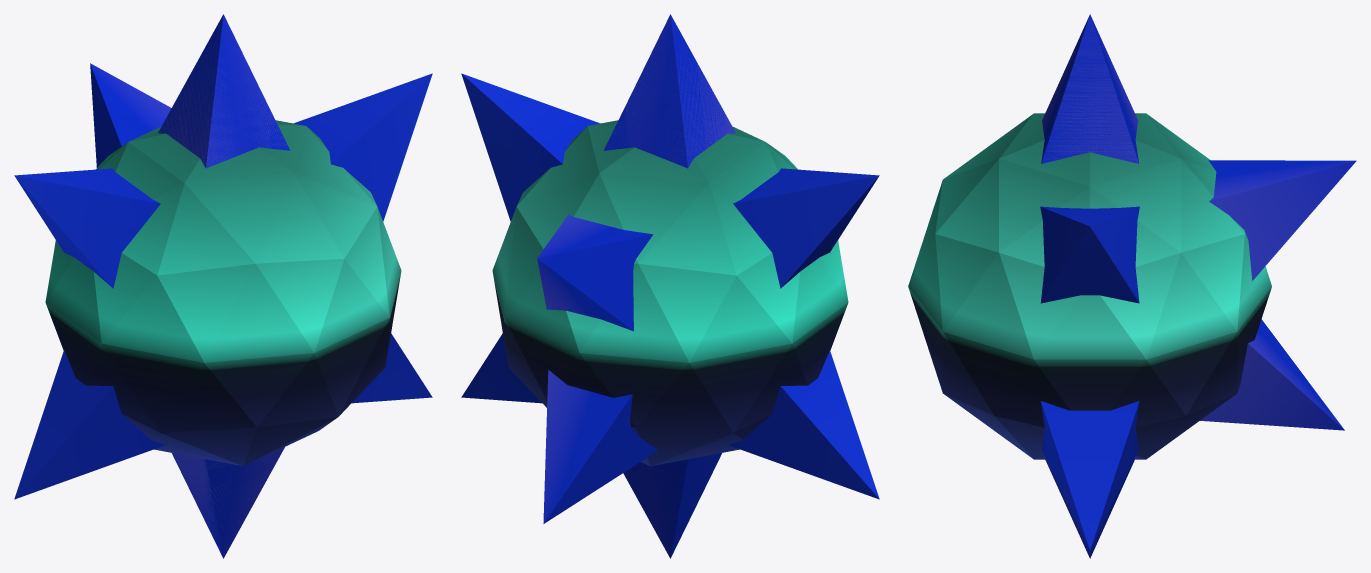
File: MagickSphere.fbx
The picture shows the model from 3 angles, left to right: view 1: azimuth 30°, elevation 25°; view 2: azimuth 150°, elevation 25°; view 3: azimuth 270°, elevation 25°; orthographic projection.
Parts seen in each view (by area): view 1: Plane; view 2: Plane; view 3: Plane.
Boxes of the visible parts, box(x1,y1,x2,y2) form: Plane: box(14, 14, 432, 558); Plane: box(461, 14, 879, 558); Plane: box(908, 14, 1356, 558).
Bounding box in the file's own units: 4.69 × 5.83 × 4.35.
